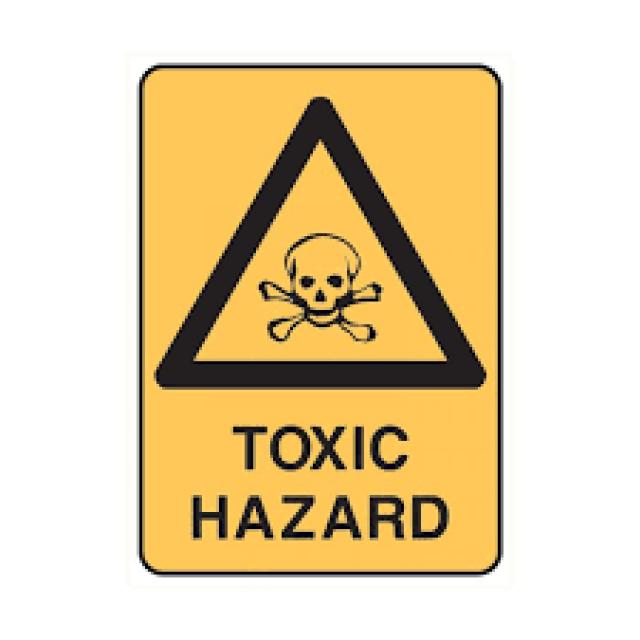toxic-hazard: (137, 89, 488, 591)
